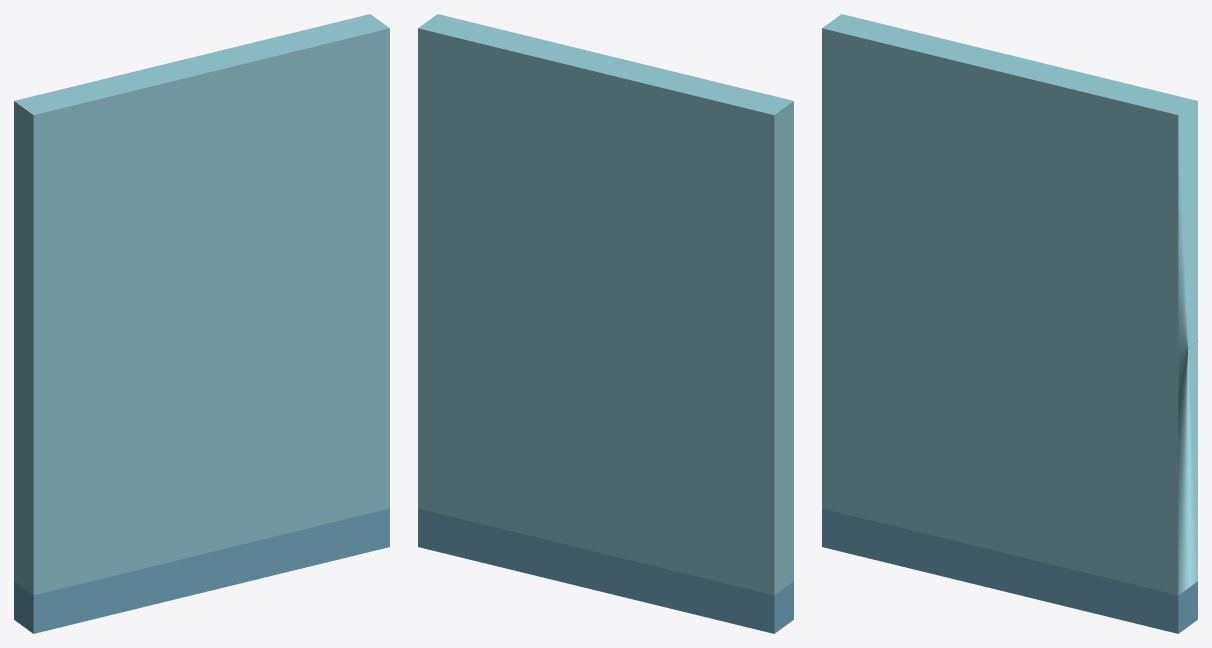
The model's file is qiang_01.FBX.
3 views of the same model, side by side, from view 1: azimuth 30°, elevation 25°; view 2: azimuth 150°, elevation 25°; view 3: azimuth 330°, elevation 25° (orthographic).
Parts seen in each view (by area): view 1: qiang_01; view 2: qiang_01; view 3: qiang_01.
Part boxes in pixels (<box>): qiang_01: <box>14,14,389,633</box>; qiang_01: <box>418,14,793,633</box>; qiang_01: <box>822,14,1197,633</box>.
Bounding box in the file's own units: 99.98 × 139 × 9.48.
